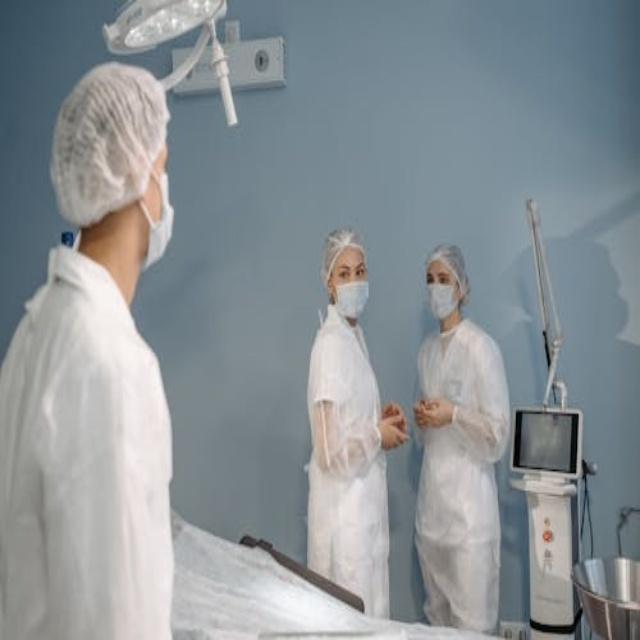Mascara: (138, 164, 175, 269), (332, 279, 370, 319), (426, 280, 459, 320)
Sin_gafas: (332, 257, 370, 280), (428, 264, 453, 286)
Sin_guantes: (414, 397, 453, 430), (378, 413, 410, 452)
